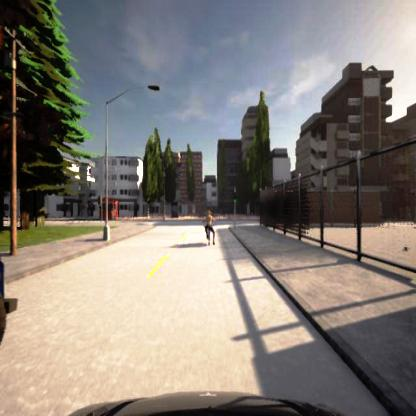bike: (202, 210, 215, 244)
